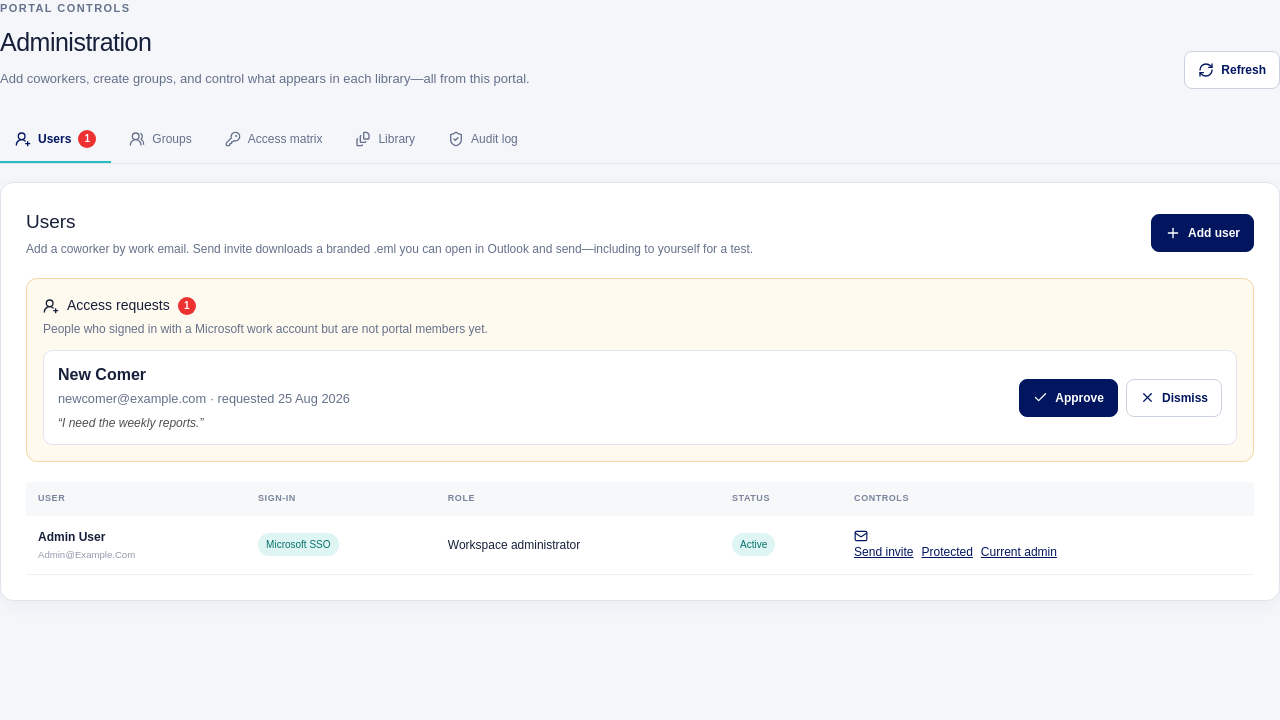
AdminPage access changes › dismisses an access request after confirmation
Expected: the text "New Comer" is shown, x1=58 y1=366 x2=146 y2=383
Click the button "Dismiss" at (1174, 398), box x1=1126 y1=379 x2=1222 y2=417
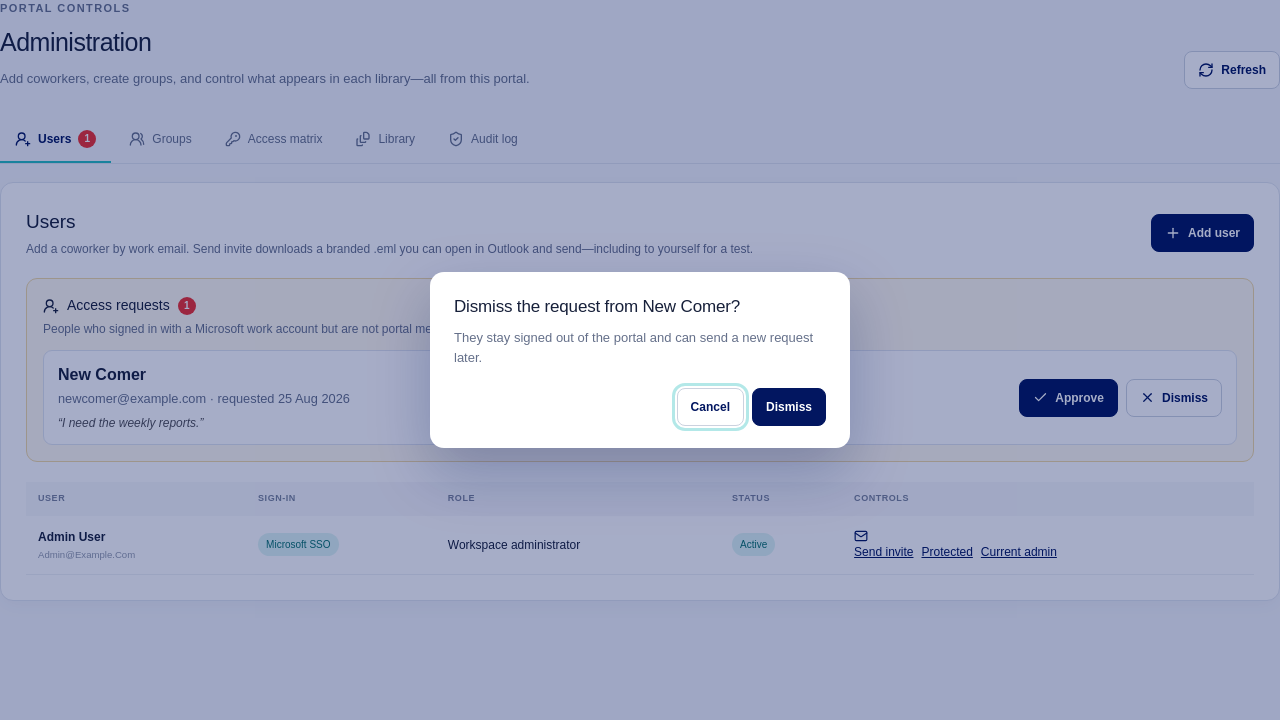
Now the heading "Dismiss the request from New Comer?" is shown, box x1=454 y1=297 x2=740 y2=316
Click the button "Dismiss" at (789, 407), box x1=752 y1=388 x2=826 y2=426
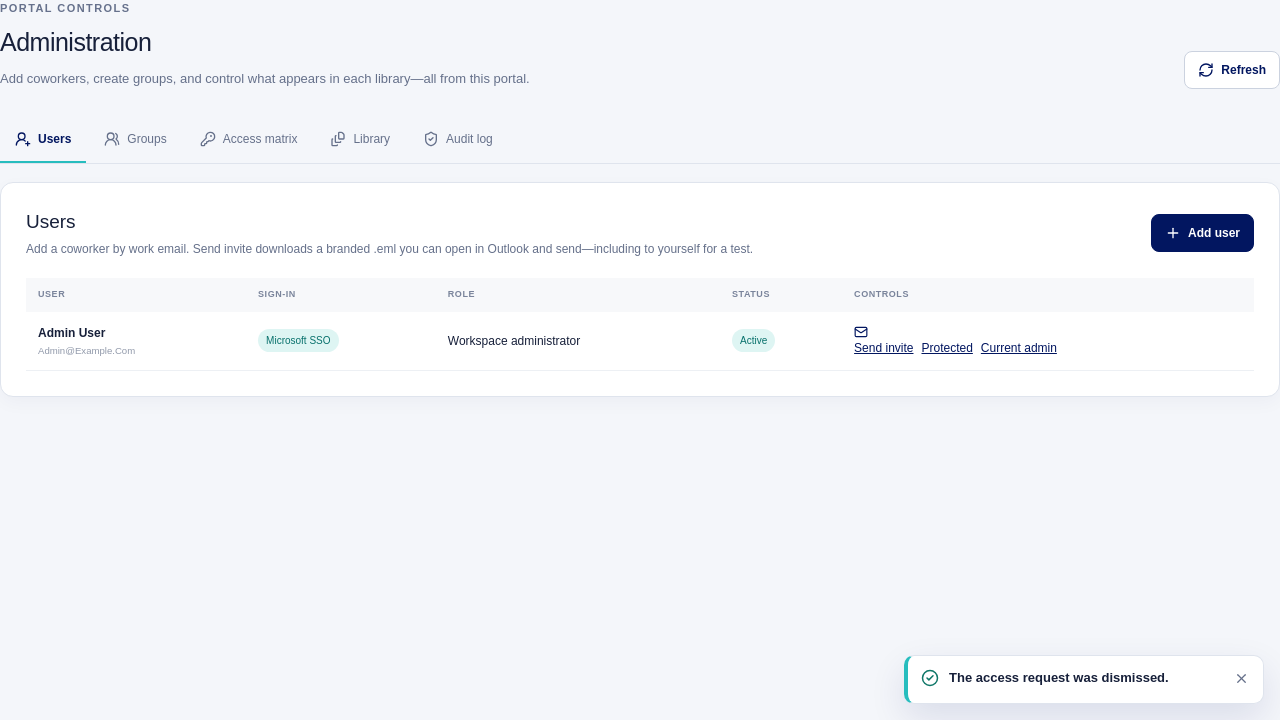
Now the text "New Comer" is gone
